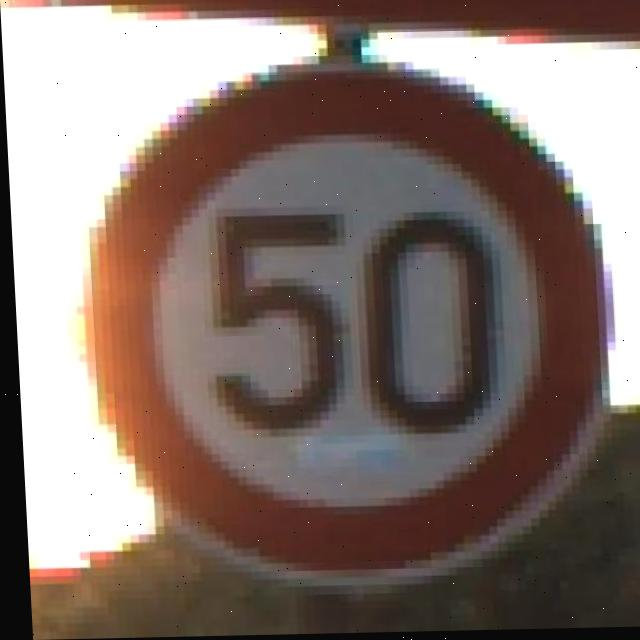Speed limit 50: (67, 55, 619, 590)
